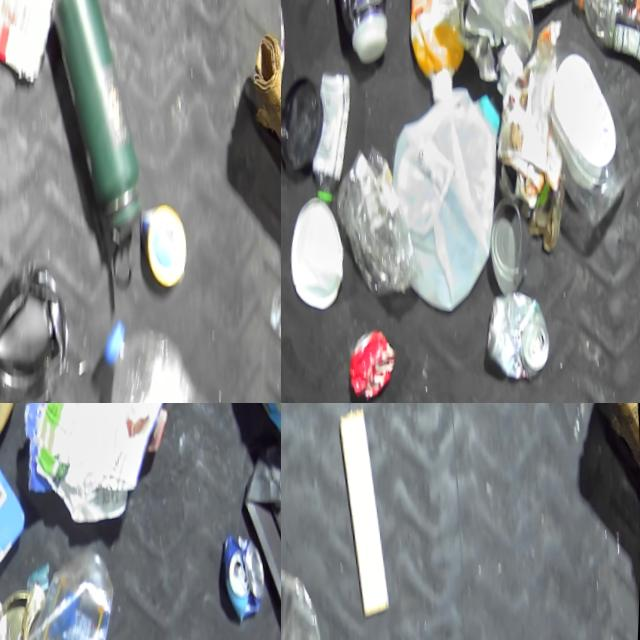can: (437, 0, 540, 89), (483, 290, 557, 387), (219, 533, 272, 629), (138, 205, 194, 294), (488, 197, 535, 298), (346, 327, 402, 403), (0, 587, 54, 640), (497, 0, 561, 14)
milk_jug: (386, 86, 517, 318)
non_white_jug: (0, 260, 80, 403), (400, 0, 472, 102), (0, 444, 32, 579), (281, 0, 297, 170)
plastic_bottle: (99, 311, 234, 403), (566, 0, 640, 91)
